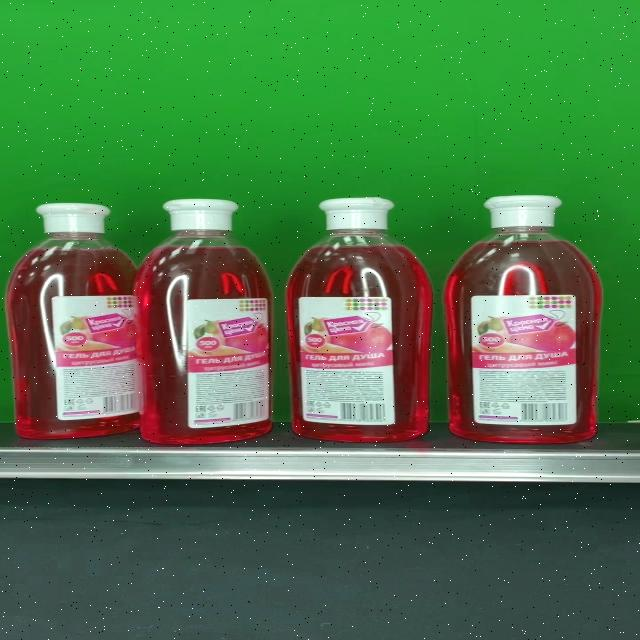Bottle: (443, 195, 602, 444), (284, 197, 432, 442), (133, 200, 272, 444), (7, 203, 140, 439)
Cap: (483, 196, 562, 228), (319, 198, 394, 230), (163, 200, 239, 230), (36, 204, 111, 234)
